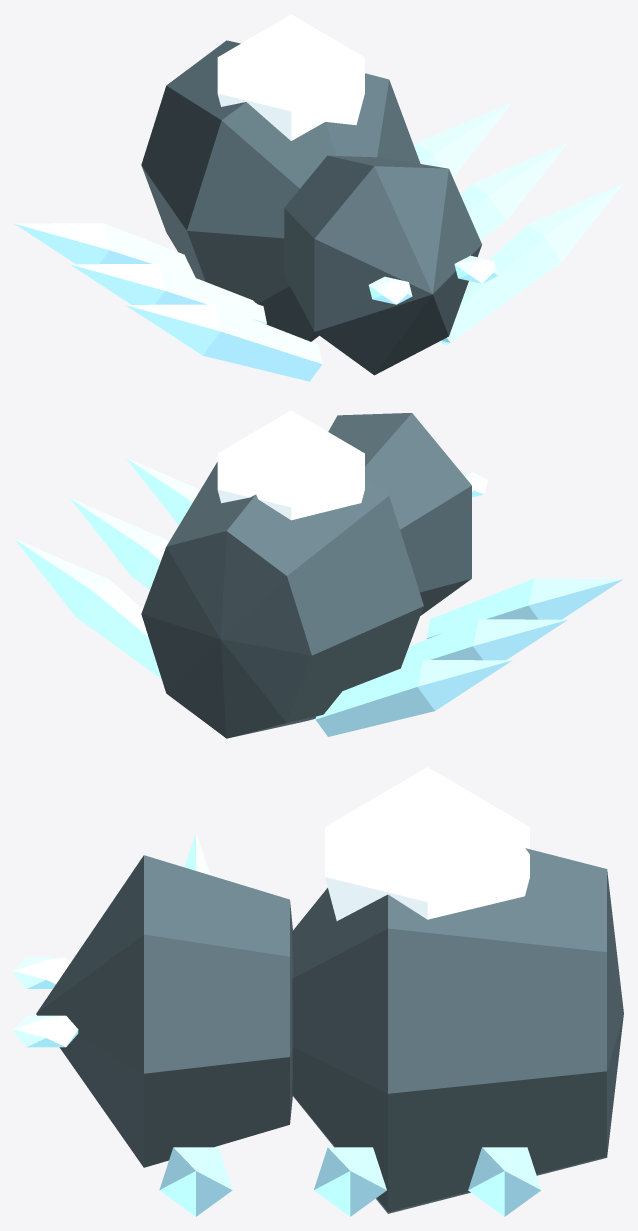
File: deep-fracture-creature-GeodeCrawler-frost.glb
3 views of the same model, one above another, from view 1: azimuth 30°, elevation 25°; view 2: azimuth 150°, elevation 25°; view 3: azimuth 270°, elevation 25° (orthographic). The views are drawn at different scales.
Visible parts, largest first — view 1: abdomen, thorax, carapace-core, leg-l2, leg-r2, leg-l1, leg-l0, leg-r1, leg-r0, inset-eye--1, inset-eye-1; view 2: abdomen, thorax, carapace-core, leg-l0, leg-r0, leg-l2, leg-l1, leg-r1, leg-r2; view 3: abdomen, thorax, carapace-core, leg-r0, leg-r2, leg-r1, inset-eye-1, inset-eye--1.
Part boxes in pixels (left/top/right/bottom): abdomen: left=141, top=40, right=420, bottom=341; thorax: left=284, top=155, right=481, bottom=375; carapace-core: left=217, top=14, right=364, bottom=140; leg-l2: left=125, top=304, right=322, bottom=381; leg-r2: left=439, top=183, right=623, bottom=345; leg-l1: left=70, top=264, right=266, bottom=324; leg-l0: left=14, top=223, right=195, bottom=277; leg-r1: left=460, top=143, right=567, bottom=239; leg-r0: left=414, top=102, right=512, bottom=177; inset-eye--1: left=368, top=276, right=412, bottom=304; inset-eye-1: left=454, top=255, right=498, bottom=283; abdomen: left=141, top=462, right=423, bottom=738; thorax: left=328, top=413, right=471, bottom=615; carapace-core: left=217, top=410, right=364, bottom=520; leg-l0: left=315, top=660, right=512, bottom=736; leg-r0: left=14, top=539, right=161, bottom=679; leg-l2: left=426, top=578, right=623, bottom=638; leg-l1: left=401, top=619, right=567, bottom=668; leg-r1: left=70, top=498, right=168, bottom=589; leg-r2: left=125, top=457, right=199, bottom=524; abdomen: left=292, top=848, right=623, bottom=1213; thorax: left=36, top=855, right=292, bottom=1167; carapace-core: left=325, top=767, right=529, bottom=920; leg-r0: left=468, top=1147, right=541, bottom=1216; leg-r2: left=159, top=1147, right=232, bottom=1216; leg-r1: left=314, top=1147, right=386, bottom=1216; inset-eye-1: left=14, top=1015, right=78, bottom=1047; inset-eye--1: left=14, top=957, right=70, bottom=988.
Size of the model in its own units: 1.56 by 0.9584 by 1.19.
